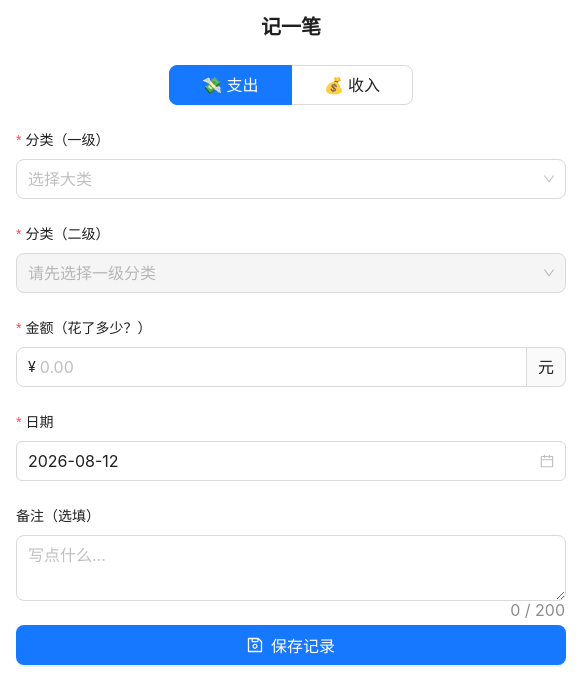
RecordPage — 类型切换 › 点击收入切换到收入模式
Click the button "💰 收入".
click(352, 85)  # box [324,75,380,95]
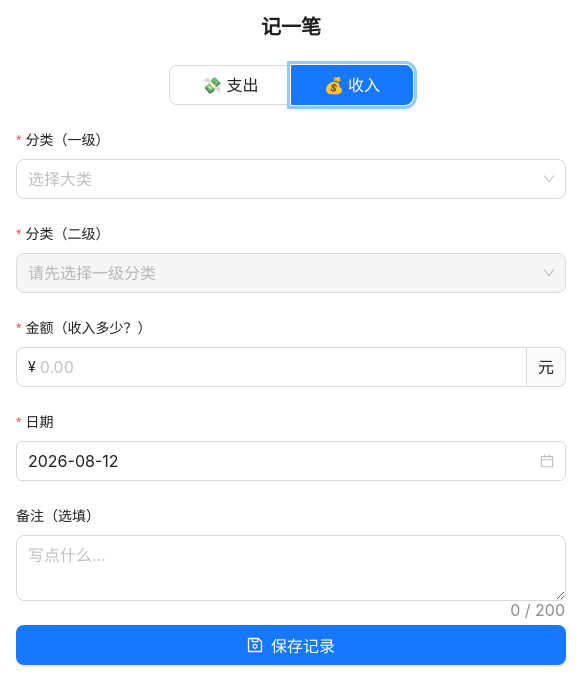
Check: the text "金额（收入多少？）" is shown, box [26,319,152,336]
